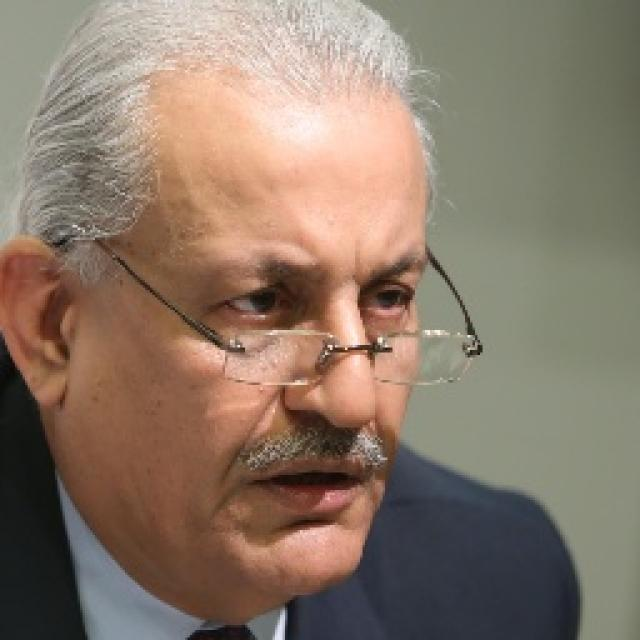earlobe: (32, 354, 69, 412)
eye: (222, 282, 290, 318), (365, 283, 411, 313)
nose: (284, 399, 391, 473)
wholeear: (0, 235, 76, 412)
